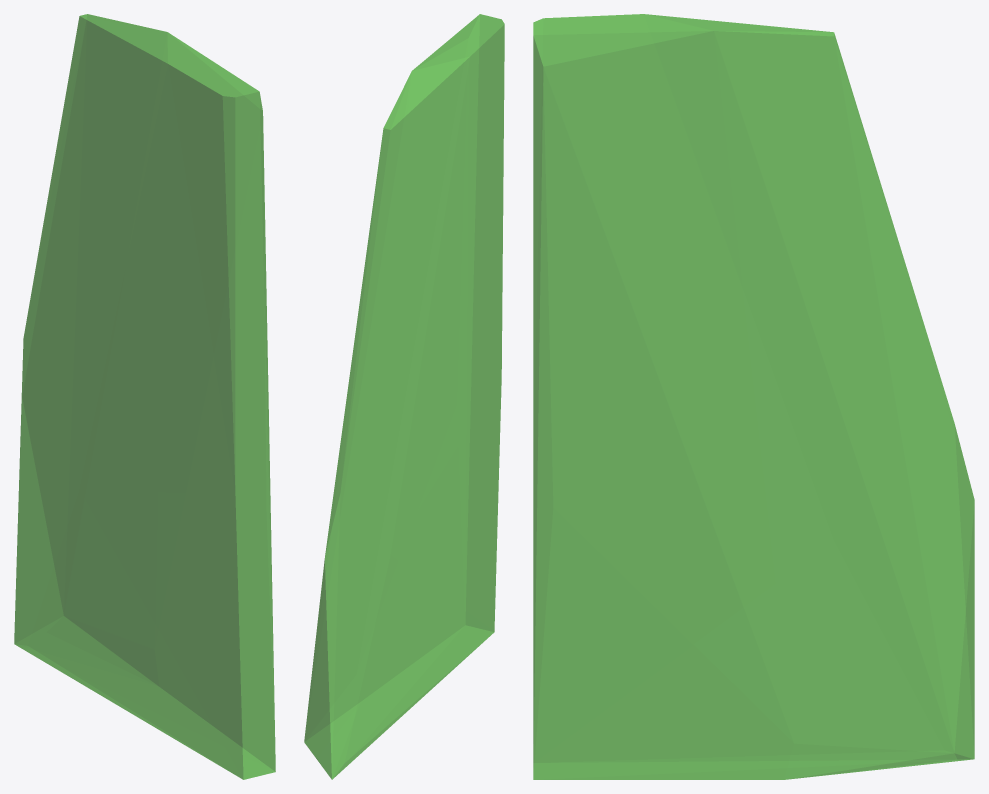
3 renders of one model, left to right at view 1: azimuth 30°, elevation 25°; view 2: azimuth 150°, elevation 25°; view 3: azimuth 270°, elevation 25°, orthographic. The views are drawn at different scales.
Parts seen in each view (by area): view 1: Shape_IndexedFaceSet.014_Shape_IndexedFaceSet.11806; view 2: Shape_IndexedFaceSet.014_Shape_IndexedFaceSet.11806; view 3: Shape_IndexedFaceSet.014_Shape_IndexedFaceSet.11806.
Boxes of the visible parts, left/top/right/bottom form: Shape_IndexedFaceSet.014_Shape_IndexedFaceSet.11806: left=14, top=14, right=275, bottom=779; Shape_IndexedFaceSet.014_Shape_IndexedFaceSet.11806: left=304, top=14, right=504, bottom=779; Shape_IndexedFaceSet.014_Shape_IndexedFaceSet.11806: left=533, top=14, right=974, bottom=779.
Size of the model in its own units: 0.0353 by 0.4129 by 0.2216.
